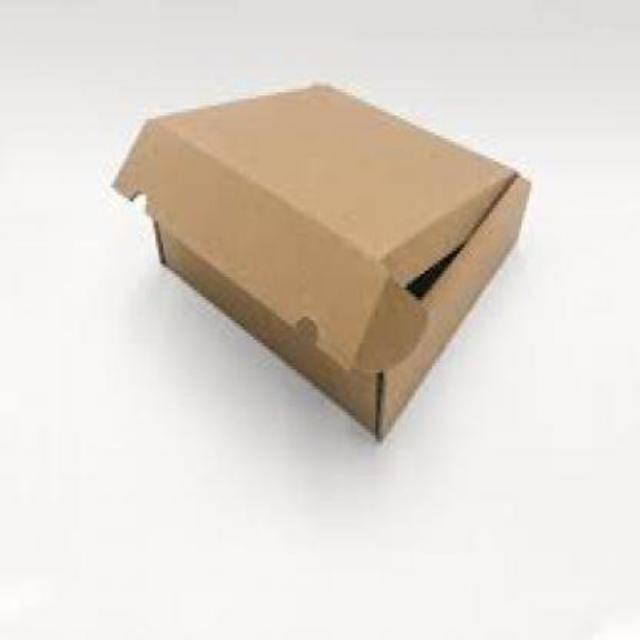cardboard_box: (110, 77, 532, 441)
